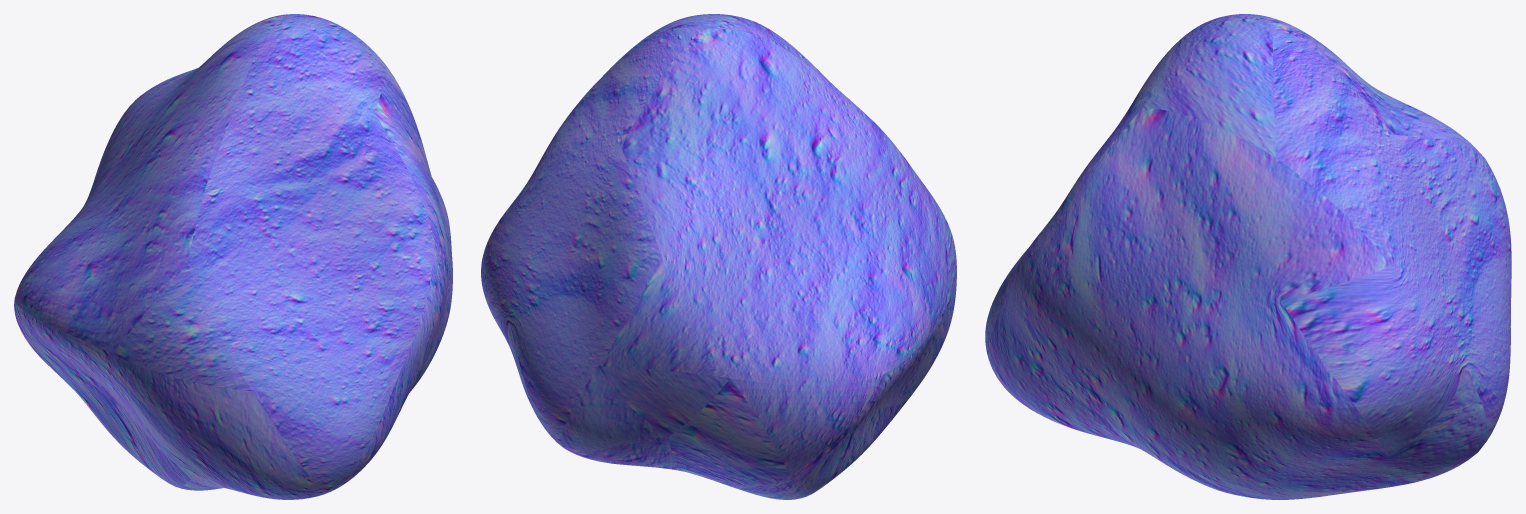
The model's file is smallasteroid10_LOD0.fbx.
3 renders of one model, left to right at view 1: azimuth 30°, elevation 25°; view 2: azimuth 150°, elevation 25°; view 3: azimuth 270°, elevation 25°, orthographic. The views are drawn at different scales.
Parts seen in each view (by area): view 1: Icosphere; view 2: Icosphere; view 3: Icosphere.
Boxes of the visible parts, box(x1,y1,x2,y2) form: Icosphere: box(14, 14, 452, 499); Icosphere: box(481, 14, 956, 499); Icosphere: box(985, 14, 1511, 499).
Size of the model in its own units: 255 by 261 by 257.
